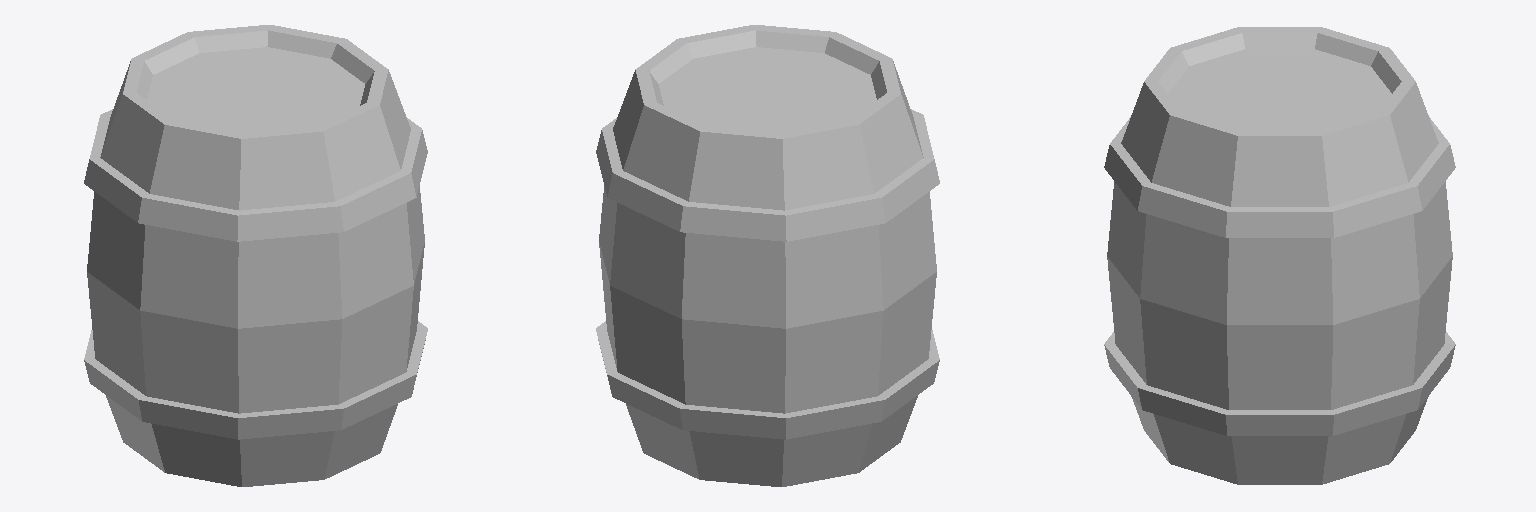
File: barril_10.obj
3 views of the same model, side by side, from view 1: azimuth 30°, elevation 25°; view 2: azimuth 150°, elevation 25°; view 3: azimuth 270°, elevation 25° (orthographic).
Visible parts, largest first — view 1: Barril.009_Cylinder.052; view 2: Barril.009_Cylinder.052; view 3: Barril.009_Cylinder.052.
Part boxes in pixels (x1,y1,x2,y2): Barril.009_Cylinder.052: (84,25,427,486); Barril.009_Cylinder.052: (596,25,939,486); Barril.009_Cylinder.052: (1104,27,1455,484).
Size of the model in its own units: 0.8714 by 1 by 0.9152.